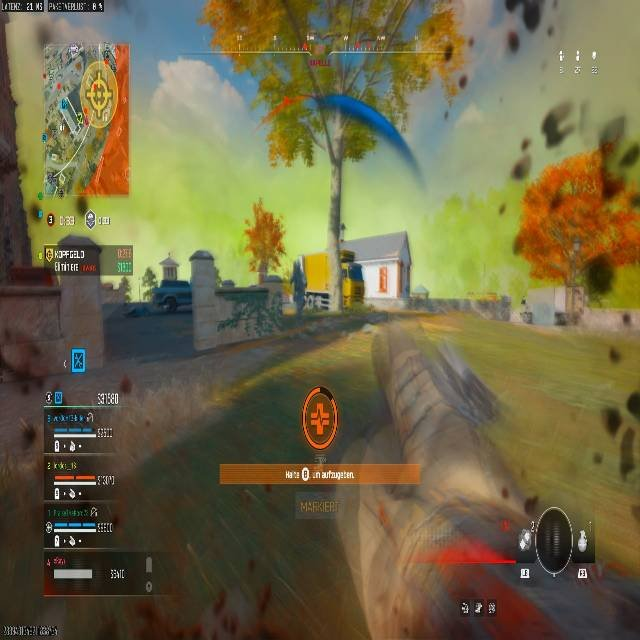player: (244, 202, 285, 283)
